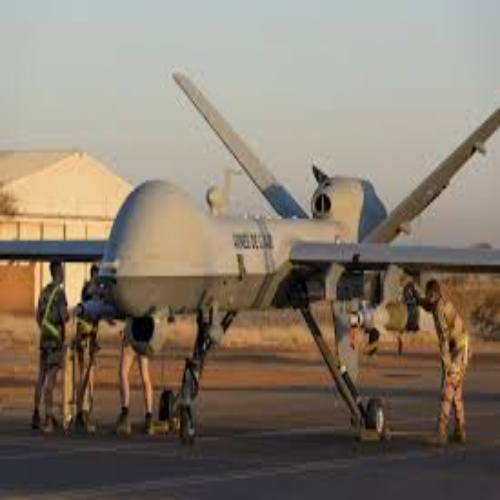uav385: (2, 69, 500, 436)
